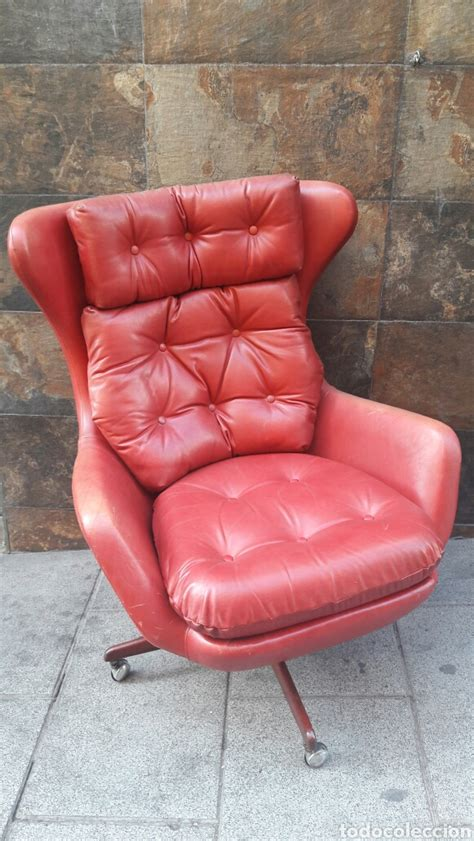cuero: (10, 173, 462, 671)
